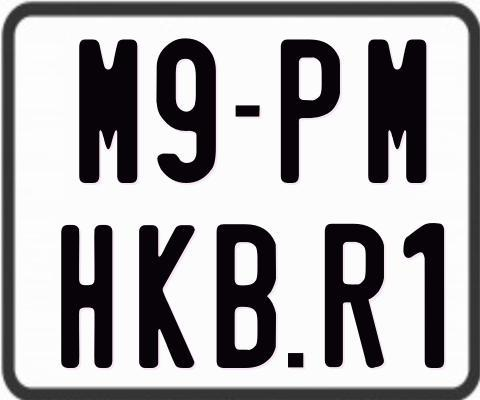1: (400, 222, 443, 373)
9: (153, 38, 213, 186)
B: (214, 224, 277, 372)
H: (59, 222, 111, 367)
K: (139, 222, 201, 368)
M: (366, 36, 430, 182), (77, 37, 135, 184)
P: (278, 38, 340, 188)
R: (325, 221, 388, 370)
